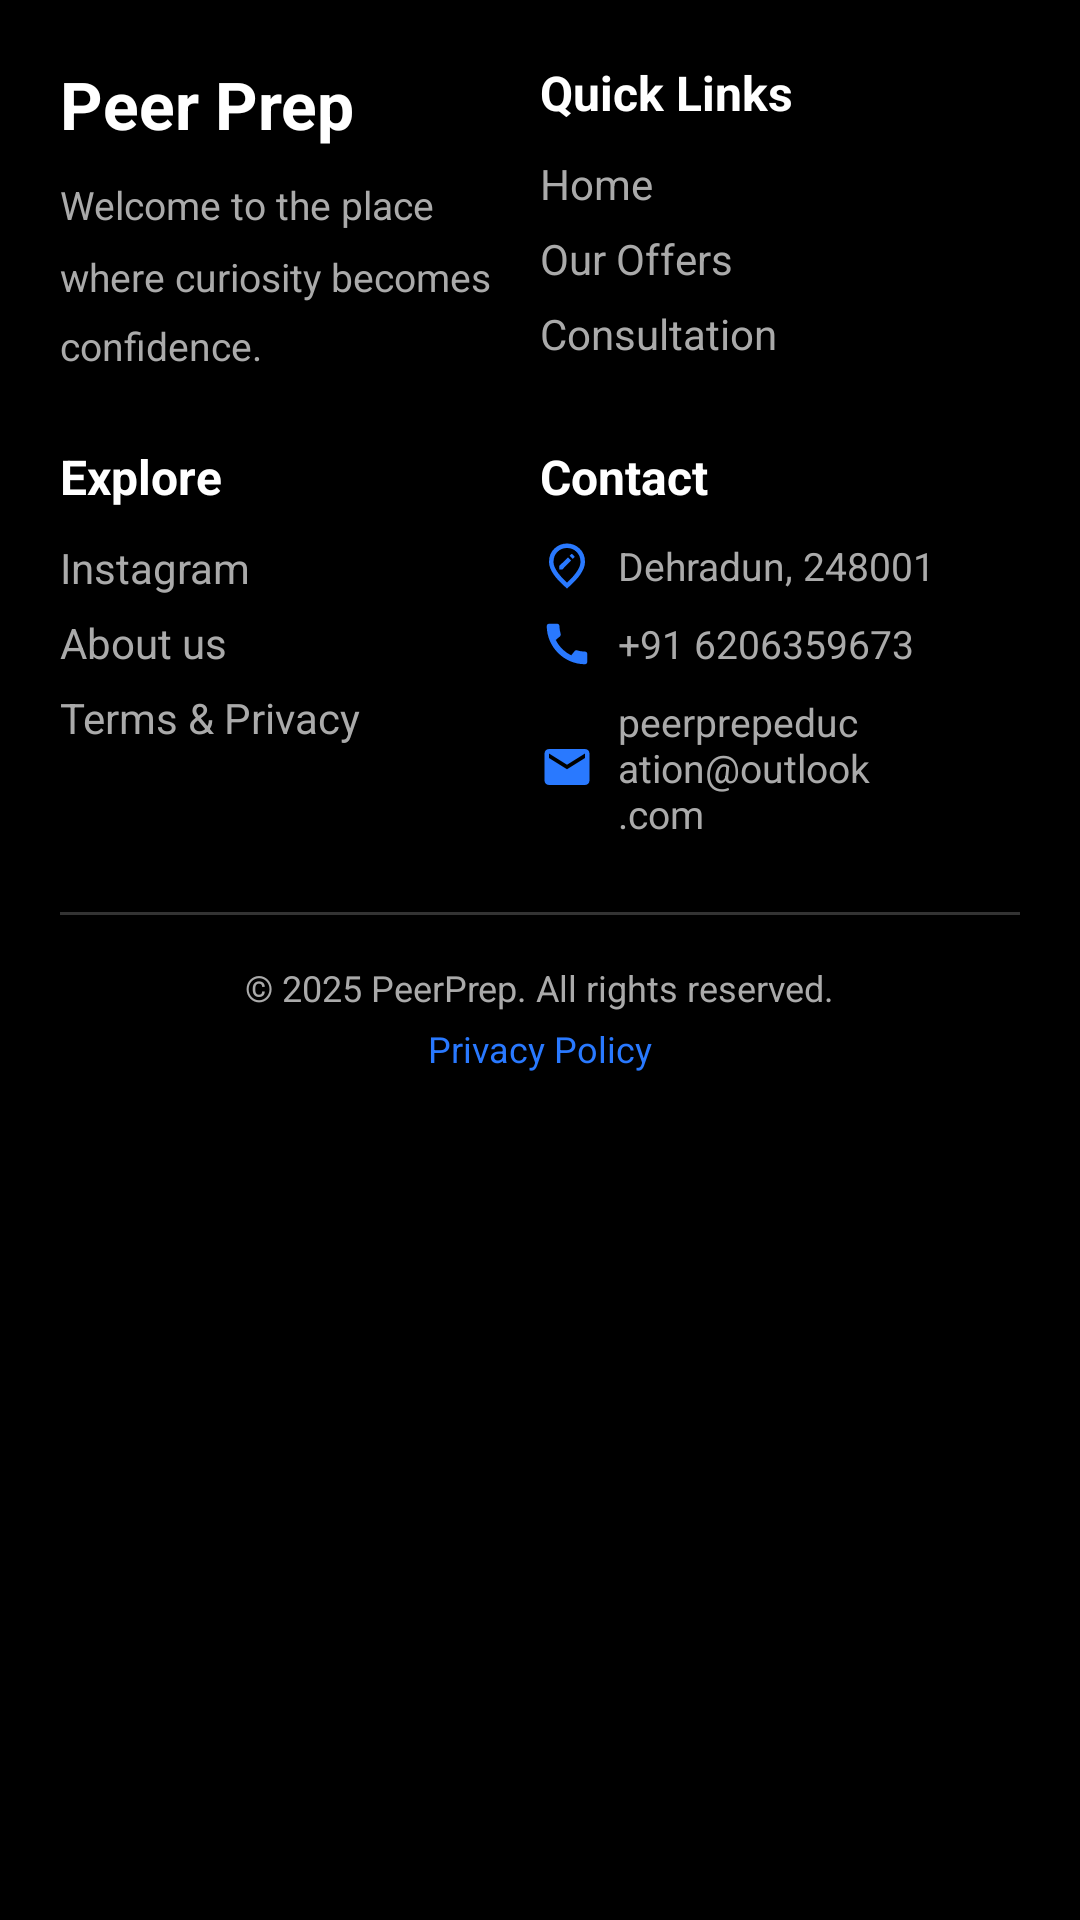

Locate icon controls on the screen. Image size 1080 x 1920, boxes as (x1, y1, x2, y2).
email: (544, 749, 590, 785)
location: (549, 543, 585, 589)
phone: (546, 623, 588, 665)
